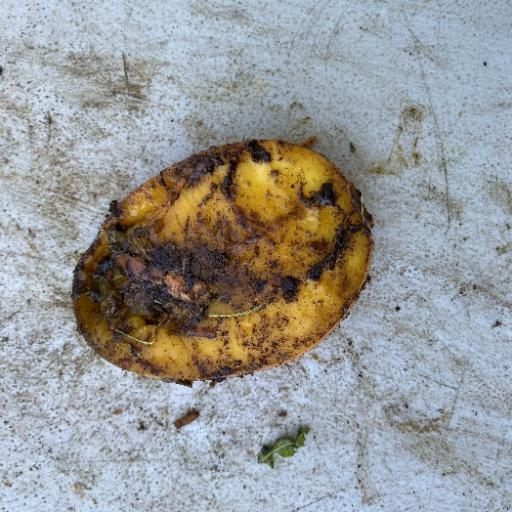Waste: (70, 136, 376, 384)
